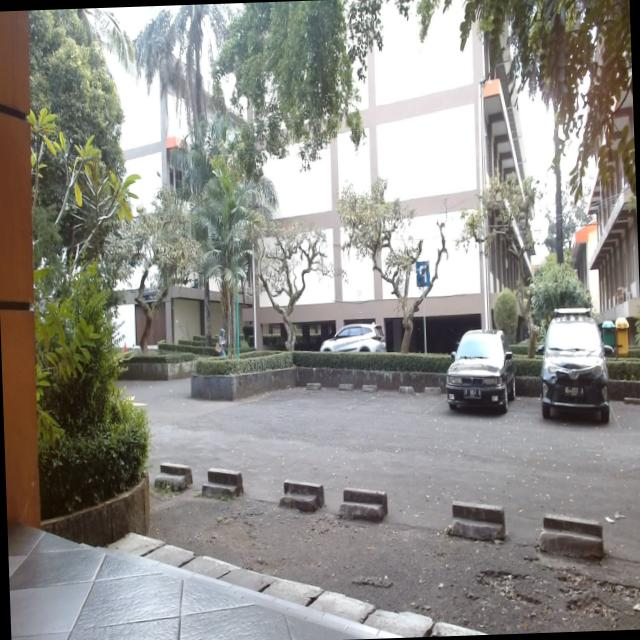car: (532, 296, 618, 434), (441, 324, 518, 420), (320, 309, 390, 357)
